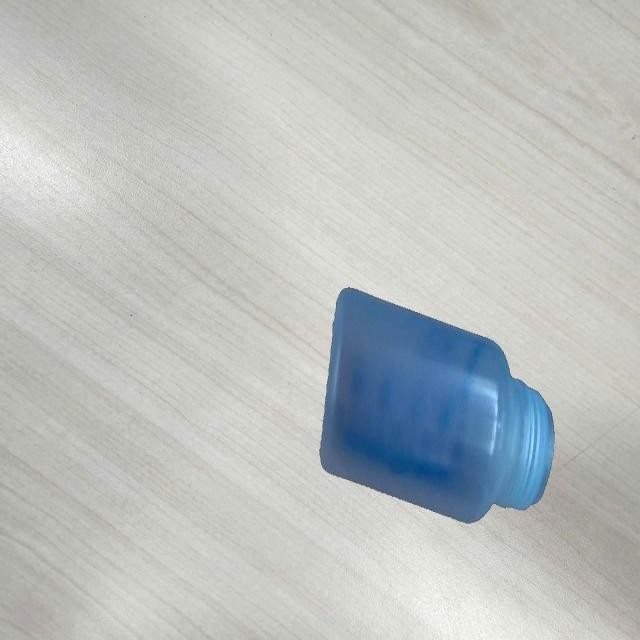bottle: (318, 282, 556, 530)
